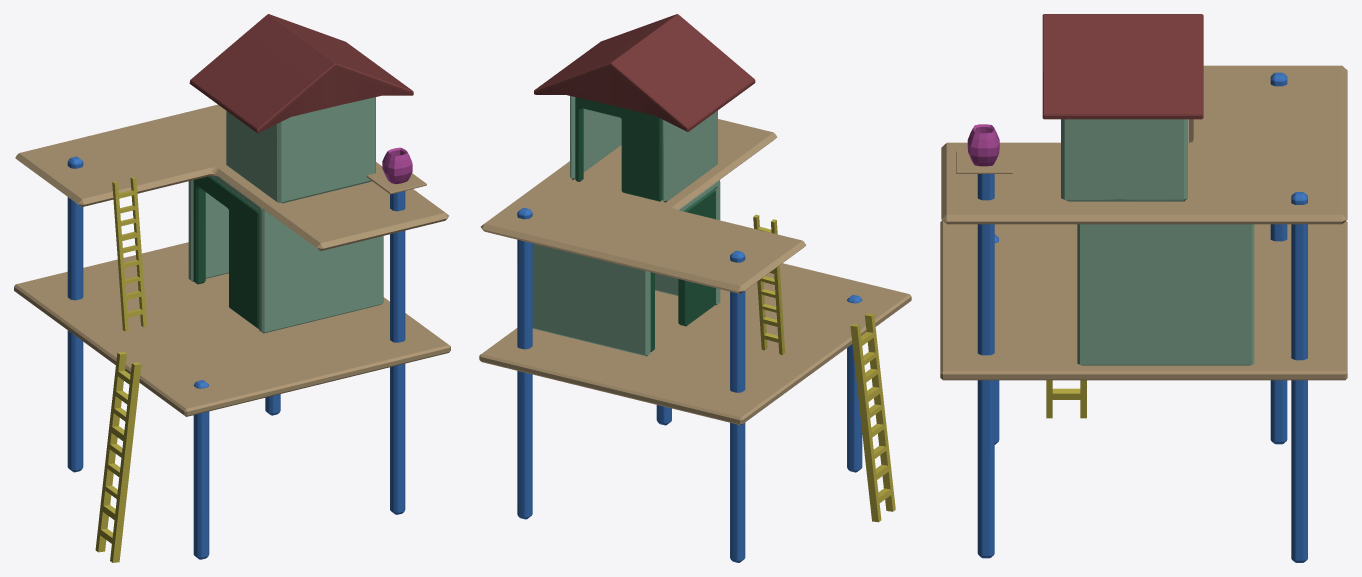
File: FishingShack.fbx
3 views of the same model, side by side, from view 1: azimuth 30°, elevation 25°; view 2: azimuth 150°, elevation 25°; view 3: azimuth 270°, elevation 25° (orthographic). The views are drawn at different scales.
Parts seen in each view (by area): view 1: ShackFloors, ShackWalls, ShackRoof, ShackSupports, Ladders, ShackDoors, BarrelOnStand; view 2: ShackFloors, ShackWalls, ShackRoof, ShackSupports, ShackDoors, Ladders; view 3: ShackFloors, ShackWalls, ShackRoof, ShackSupports, BarrelOnStand, Ladders.
Part boxes in pixels (<box>): ShackFloors: <box>14,104,450,416</box>; ShackWalls: <box>188,97,383,333</box>; ShackRoof: <box>189,14,413,133</box>; ShackSupports: <box>67,156,405,559</box>; Ladders: <box>95,176,146,562</box>; ShackDoors: <box>193,176,259,329</box>; BarrelOnStand: <box>382,147,412,184</box>; ShackFloors: <box>479,119,911,425</box>; ShackWalls: <box>532,96,720,356</box>; ShackRoof: <box>534,14,755,131</box>; ShackSupports: <box>517,207,862,562</box>; ShackDoors: <box>575,97,715,351</box>; Ladders: <box>753,214,895,522</box>; ShackFloors: <box>940,65,1347,380</box>; ShackWalls: <box>1061,119,1254,365</box>; ShackRoof: <box>1042,14,1203,119</box>; ShackSupports: <box>977,72,1307,562</box>; BarrelOnStand: <box>967,124,999,166</box>; Ladders: <box>1046,380,1086,418</box>.
Size of the model in its own units: 484 by 690 by 483.
